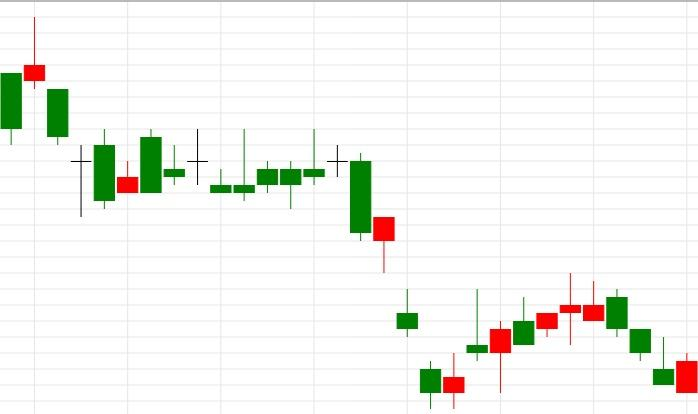three_black_crows_fall: (420, 274, 675, 409)
